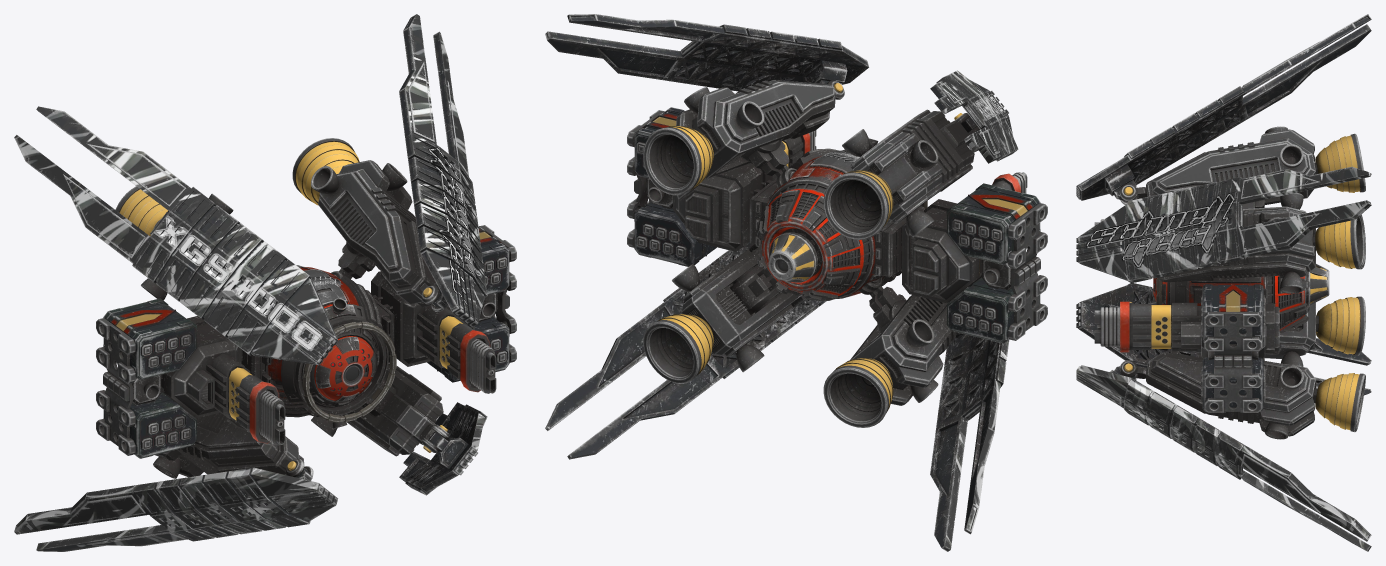
The model's file is schnell-geist-detail.glb.
3 renders of one model, left to right at view 1: azimuth 30°, elevation 25°; view 2: azimuth 150°, elevation 25°; view 3: azimuth 270°, elevation 25°, orthographic. The views are drawn at different scales.
Parts seen in each view (by area): view 1: schnell-geist; view 2: schnell-geist; view 3: schnell-geist.
Boxes of the visible parts, x1,y1,x2,y2 form: schnell-geist: [14, 14, 516, 551]; schnell-geist: [545, 14, 1047, 551]; schnell-geist: [1076, 14, 1371, 551].
Bounding box in the file's own units: 24 × 23.91 × 16.85.
5 materials, 5 textured.
